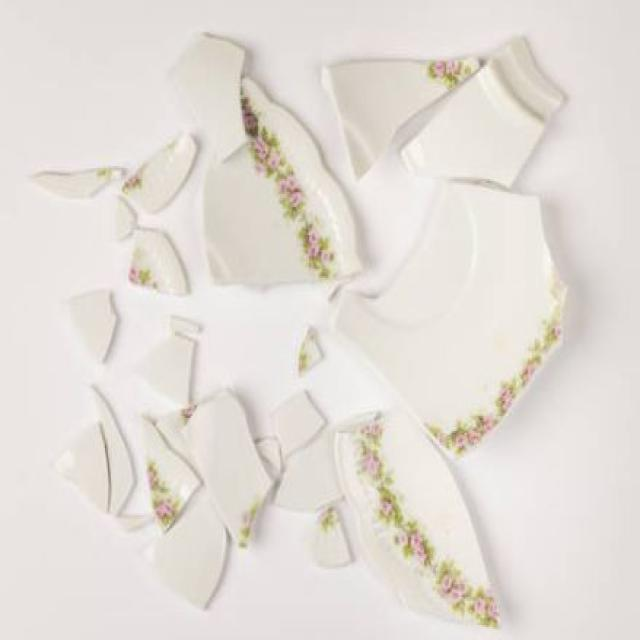electronic: (336, 176, 574, 462)
